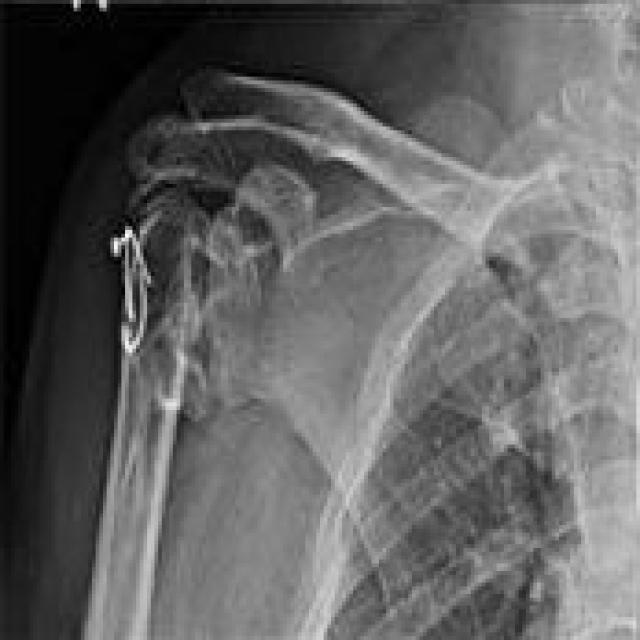Hairline: (105, 56, 304, 382)
